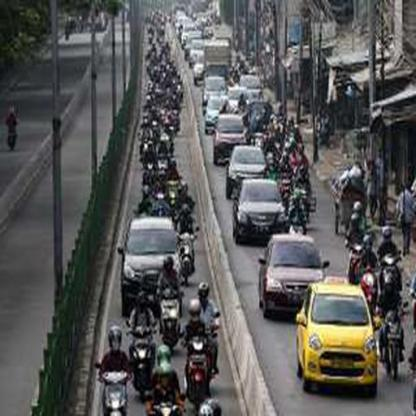car: (295, 280, 379, 402), (258, 233, 325, 312), (119, 219, 178, 298), (230, 176, 288, 242), (224, 146, 265, 194), (212, 113, 249, 156)
motorbike: (380, 307, 410, 382), (94, 361, 133, 415), (187, 327, 214, 402), (126, 324, 156, 388), (158, 289, 184, 346), (177, 224, 200, 282), (381, 250, 406, 301), (341, 235, 368, 278)
